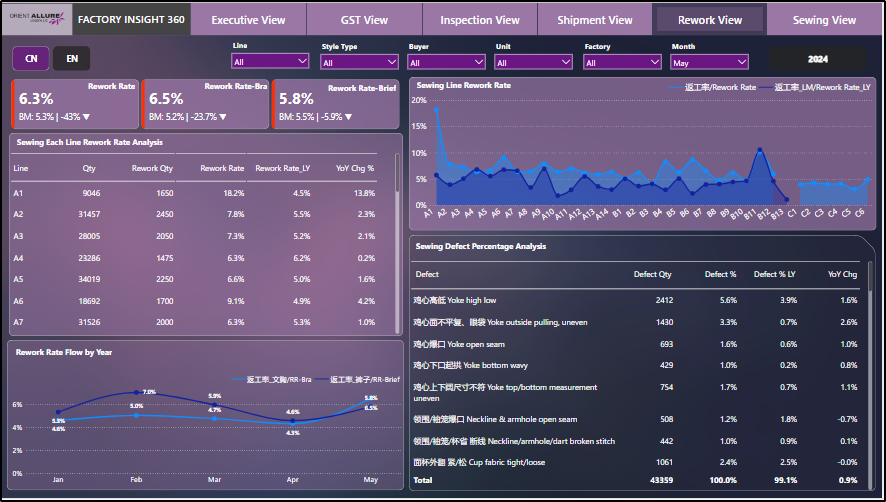

The dashboard page shown, as its layout file describes it:
{"tool":"powerbi","page":{"name":"Rework View","canvas":[1920,1080],"ordinal":5},"visuals":[{"type":"shape","title":"Navigation Panel Background Shape","box":[0,0,1920,70.6],"z":0,"group":"g9"},{"type":"shape","title":"back","box":[0,2.8,153.1,68.1],"z":0,"group":"g10"},{"type":"slicer","fields":{"Values":["dim_date.month"]},"box":[1449.3,78.1,190.2,74],"z":0,"group":"g11"},{"type":"cardVisual","fields":{"Data":["Key Measures.rework_rate","Key Measures.rework_rate_bra","Key Measures.rework_rate_brief"]},"box":[15.3,161.5,859.6,120],"z":0,"group":"g7"},{"type":"shape","title":"Net Sales Performance Over Time Background Shape","box":[887.5,161.6,1019.8,334.7],"z":0,"group":"g8"},{"type":"shape","title":"back","box":[15.3,283.6,859.6,442.9],"z":0,"group":"g6"},{"type":"card","fields":{"Values":["#lanMeasures.RR Matrix Qty Col Header"]},"box":[161.3,340.5,61.6,43.5],"z":0,"group":"g4"},{"type":"shape","box":[888.7,506,1018.3,558.8],"z":0,"group":"g2"},{"type":"card","fields":{"Values":["#lanMeasures.Defect Matrix defect Col Header"]},"box":[892,572,70,44],"z":0,"group":"g5"},{"type":"group","id":"g1","title":"Group 6","box":[12,736.2,865.8,327.8],"z":0,"group":"g3"},{"type":"lineChart","fields":{"Y":["Key Measures.rework_rate_bra","Key Measures.rework_rate_brief"],"Category":["dim_date.month"]},"box":[17.5,799.3,860.4,262.6],"z":500,"group":"g3"},{"type":"image","title":"logo","box":[4.3,0,143.7,68.6],"z":1000,"group":"g10"},{"type":"actionButton","title":"Executive View Icon","box":[412.4,0,250.9,70.2],"z":1000,"group":"g9"},{"type":"slicer","fields":{"Values":["dim_style_type.style_type"]},"box":[684.9,78.1,190.2,74],"z":1000,"group":"g11"},{"type":"areaChart","fields":{"Category":["dim_line.line"],"Y":["Key Measures.rework_rate","Key Measures.rework_rate_LM"]},"box":[887.7,161.2,1017.6,336.9],"z":1000,"group":"g8"},{"type":"actionButton","title":"title","box":[174.1,163.3,120,35.1],"z":1000,"group":"g7"},{"type":"pivotTable","fields":{"Rows":["dim_line.line"],"Values":["Key Measures.iwork_qty","Key Measures.rework_qty","Key Measures.rework_rate","Key Measures.rework_rate_LY","Key Measures.rework_rate_MoM chg %"]},"box":[16.2,322.6,856.8,403.9],"z":1000,"group":"g6"},{"type":"card","fields":{"Values":["#lanMeasures.RR Matrix RR Qty Col Header"]},"box":[273.6,340.5,110.5,43.5],"z":1000,"group":"g4"},{"type":"group","id":"g2","title":"defect matrix","box":[888.7,506,1018.3,561.3],"z":1000},{"type":"actionButton","title":"title","box":[899.3,506,350,46.8],"z":1000,"group":"g2"},{"type":"card","fields":{"Values":["#lanMeasures.Defect Matrix defect qty Header"]},"box":[1364,572,112,44],"z":1000,"group":"g5"},{"type":"shape","title":"back","box":[12,736.2,865.8,327.8],"z":1000,"group":"g1"},{"type":"actionButton","title":"title","box":[26.4,745.9,231,35],"z":1000,"group":"g3"},{"type":"actionButton","title":"overshipment View","box":[1169.3,0,248.7,70.2],"z":2000,"group":"g9"},{"type":"slicer","fields":{"Values":["dim_buyer.buyer"]},"box":[875.1,78.1,190.2,74],"z":2000,"group":"g11"},{"type":"actionButton","title":"Profit & Loss Statement Button","box":[900.3,161.2,278.5,34],"z":2000,"group":"g8"},{"type":"actionButton","title":"title","box":[433.7,163.3,148.5,34.4],"z":2000,"group":"g7"},{"type":"actionButton","title":"title","box":[28.1,285.7,350,34],"z":2000,"group":"g6"},{"type":"card","fields":{"Values":["#lanMeasures.Rework Matrix Rework Rate Col Header"]},"box":[425.7,340.5,110.5,43.5],"z":2000,"group":"g4"},{"type":"pivotTable","fields":{"Rows":["dim_defect.defect"],"Values":["Key Measures.defect_qty","Key Measures.defect %","Key Measures.defect % LM","Key Measures.defect % MoM Chg"]},"box":[888.7,558.4,1016.2,508.9],"z":2000,"group":"g2"},{"type":"card","fields":{"Values":["#lanMeasures.Defect Matrix defect % Header"]},"box":[1512,572,112,44],"z":2000,"group":"g5"},{"type":"group","id":"g3","title":"bra vs brief rr","box":[12,736.2,865.9,327.8],"z":2000},{"type":"group","id":"g4","title":"Group 2","box":[16.4,340.5,807.8,43.5],"z":2500,"group":"g6"},{"type":"group","id":"g5","title":"Group 1","box":[892,572,998,44],"z":2500,"group":"g2"},{"type":"actionButton","title":"Ins View Icon","box":[918.4,0,248.7,70.2],"z":3000,"group":"g9"},{"type":"slicer","fields":{"Values":["dim_factory.factory"]},"box":[1259.1,78.1,190.2,74],"z":3000,"group":"g11"},{"type":"actionButton","title":"title","box":[705.4,165.1,159.4,36.2],"z":3000,"group":"g7"},{"type":"group","id":"g6","title":"rework matrix","box":[15.3,283.6,859.6,443],"z":3000},{"type":"card","fields":{"Values":["#lanMeasures.Rework Matrix Rework Rate_LY Col Header"]},"box":[547.1,340.5,134,43.5],"z":3000,"group":"g4"},{"type":"card","fields":{"Values":["#lanMeasures.Defect Matrix defect % LY Header"]},"box":[1630,572,112,44],"z":3000,"group":"g5"},{"type":"actionButton","title":"Sewing View Icon","box":[1668.9,0,250.9,70.2],"z":4000,"group":"g9"},{"type":"slicer","fields":{"Values":["dim_unit.unit"]},"box":[1065.3,78.1,190.2,74],"z":4000,"group":"g11"},{"type":"group","id":"g7","title":"KPI","box":[15.3,161.5,859.6,120],"z":4000},{"type":"card","fields":{"Values":["#lanMeasures.Rework Matrix YoY Chg % Col Header"]},"box":[719.2,340.5,105.1,43.5],"z":4000,"group":"g4"},{"type":"card","fields":{"Values":["#lanMeasures.Defect Matrix defect Yoy Chg Header"]},"box":[1778,572,112,44],"z":4000,"group":"g5"},{"type":"actionButton","title":"GST View icon","box":[665.4,0,250.9,70.2],"z":5000,"group":"g9"},{"type":"advancedSlicerVisual","title":"Slicer year","fields":{"Values":["dim_date.year"]},"box":[1668.9,89.3,221.1,63.8],"z":5000,"group":"g11"},{"type":"group","id":"g8","title":"rr rate as line chart","box":[887.5,161.2,1019.8,336.9],"z":5000},{"type":"card","fields":{"Values":["#lanMeasures.RR Matrix Line Col Header"]},"box":[16.4,341.1,51.1,42.9],"z":5000,"group":"g4"},{"type":"group","id":"g9","title":"Navigation panel","box":[0,0,1920,70.6],"z":6000},{"type":"shape","title":"orient Insight 360 Button","box":[155.2,0,255,70.2],"z":6000,"group":"g9"},{"type":"slicer","fields":{"Values":["dim_line.line"]},"box":[491.1,76.5,189.2,74],"z":6000,"group":"g11"},{"type":"group","id":"g10","title":"orient logo","box":[0,0,153.1,70.2],"z":7000,"group":"g9"},{"type":"group","id":"g11","title":"slicer panel","box":[491.1,76.5,1398.9,76.6],"z":7000},{"type":"actionButton","title":"RR View icon","box":[1420.2,0,248.7,70.2],"z":8000,"group":"g9"},{"type":"advancedSlicerVisual","title":"Slicer year","fields":{"Values":["#lan-slicer.Lan"]},"box":[18.1,89,181.1,63],"z":8000}]}

Visuals, with their boxes in screenshot pixels (x1, y1, x2, y2), scaled from the page's 1920x1080 canvas onto the 886x502 screenshot:
"Navigation Panel Background Shape" shape: box(0, 0, 885, 33)
"back" shape: box(0, 1, 71, 33)
slicer - dim_date.month: box(669, 36, 757, 71)
cardVisual - Key Measures.rework_rate x Key Measures.rework_rate_bra: box(7, 75, 404, 131)
"Net Sales Performance Over Time Background Shape" shape: box(410, 75, 880, 231)
"back" shape: box(7, 132, 404, 338)
card - #lanMeasures.RR Matrix Qty Col Header: box(74, 158, 103, 178)
shape: box(410, 235, 880, 495)
card - #lanMeasures.Defect Matrix defect Col Header: box(412, 266, 444, 286)
"Group 6" group: box(6, 342, 405, 495)
lineChart - Key Measures.rework_rate_bra x Key Measures.rework_rate_brief: box(8, 372, 405, 494)
"logo" image: box(2, 0, 68, 32)
"Executive View Icon" actionButton: box(190, 0, 306, 33)
slicer - dim_style_type.style_type: box(316, 36, 404, 71)
areaChart - dim_line.line x Key Measures.rework_rate: box(410, 75, 879, 232)
"title" actionButton: box(80, 76, 136, 92)
pivotTable - dim_line.line x Key Measures.iwork_qty: box(7, 150, 403, 338)
card - #lanMeasures.RR Matrix RR Qty Col Header: box(126, 158, 177, 178)
"defect matrix" group: box(410, 235, 880, 496)
"title" actionButton: box(415, 235, 576, 257)
card - #lanMeasures.Defect Matrix defect qty Header: box(629, 266, 681, 286)
"back" shape: box(6, 342, 405, 495)
"title" actionButton: box(12, 347, 119, 363)
"overshipment View" actionButton: box(540, 0, 654, 33)
slicer - dim_buyer.buyer: box(404, 36, 492, 71)
"Profit & Loss Statement Button" actionButton: box(415, 75, 544, 91)
"title" actionButton: box(200, 76, 269, 92)
"title" actionButton: box(13, 133, 174, 149)
card - #lanMeasures.Rework Matrix Rework Rate Col Header: box(196, 158, 247, 178)
pivotTable - dim_defect.defect x Key Measures.defect_qty: box(410, 260, 879, 496)
card - #lanMeasures.Defect Matrix defect % Header: box(698, 266, 749, 286)
"bra vs brief rr" group: box(6, 342, 405, 495)
"Group 2" group: box(8, 158, 380, 178)
"Group 1" group: box(412, 266, 872, 286)
"Ins View Icon" actionButton: box(424, 0, 539, 33)
slicer - dim_factory.factory: box(581, 36, 669, 71)
"title" actionButton: box(326, 77, 399, 94)
"rework matrix" group: box(7, 132, 404, 338)
card - #lanMeasures.Rework Matrix Rework Rate_LY Col Header: box(252, 158, 314, 178)
card - #lanMeasures.Defect Matrix defect % LY Header: box(752, 266, 804, 286)
"Sewing View Icon" actionButton: box(770, 0, 885, 33)
slicer - dim_unit.unit: box(492, 36, 579, 71)
"KPI" group: box(7, 75, 404, 131)
card - #lanMeasures.Rework Matrix YoY Chg % Col Header: box(332, 158, 380, 178)
card - #lanMeasures.Defect Matrix defect Yoy Chg Header: box(820, 266, 872, 286)
"GST View icon" actionButton: box(307, 0, 423, 33)
"Slicer year" advancedSlicerVisual: box(770, 42, 872, 71)
"rr rate as line chart" group: box(410, 75, 880, 232)
card - #lanMeasures.RR Matrix Line Col Header: box(8, 159, 31, 178)
"Navigation panel" group: box(0, 0, 885, 33)
"orient Insight 360 Button" shape: box(72, 0, 189, 33)
slicer - dim_line.line: box(227, 36, 314, 70)
"orient logo" group: box(0, 0, 71, 33)
"slicer panel" group: box(227, 36, 872, 71)
"RR View icon" actionButton: box(655, 0, 770, 33)
"Slicer year" advancedSlicerVisual: box(8, 41, 92, 71)
